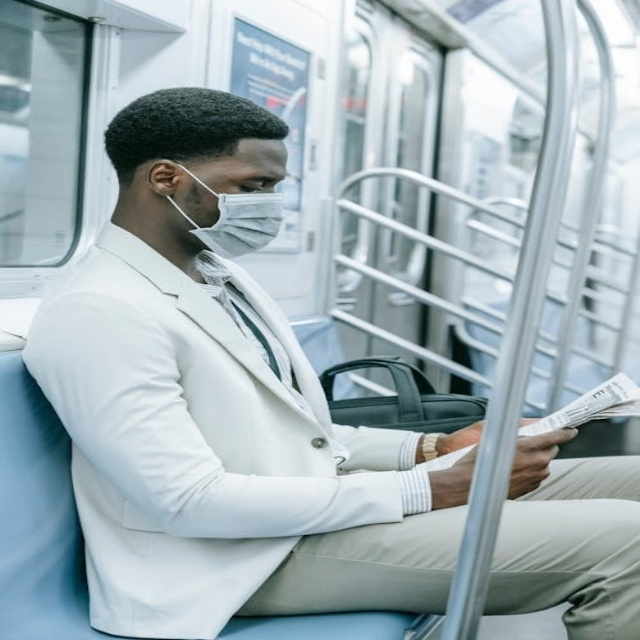Mascara: (173, 162, 287, 260)
Sin_gafas: (220, 172, 287, 195)
Sin_guantes: (417, 422, 581, 513), (435, 417, 556, 465)
